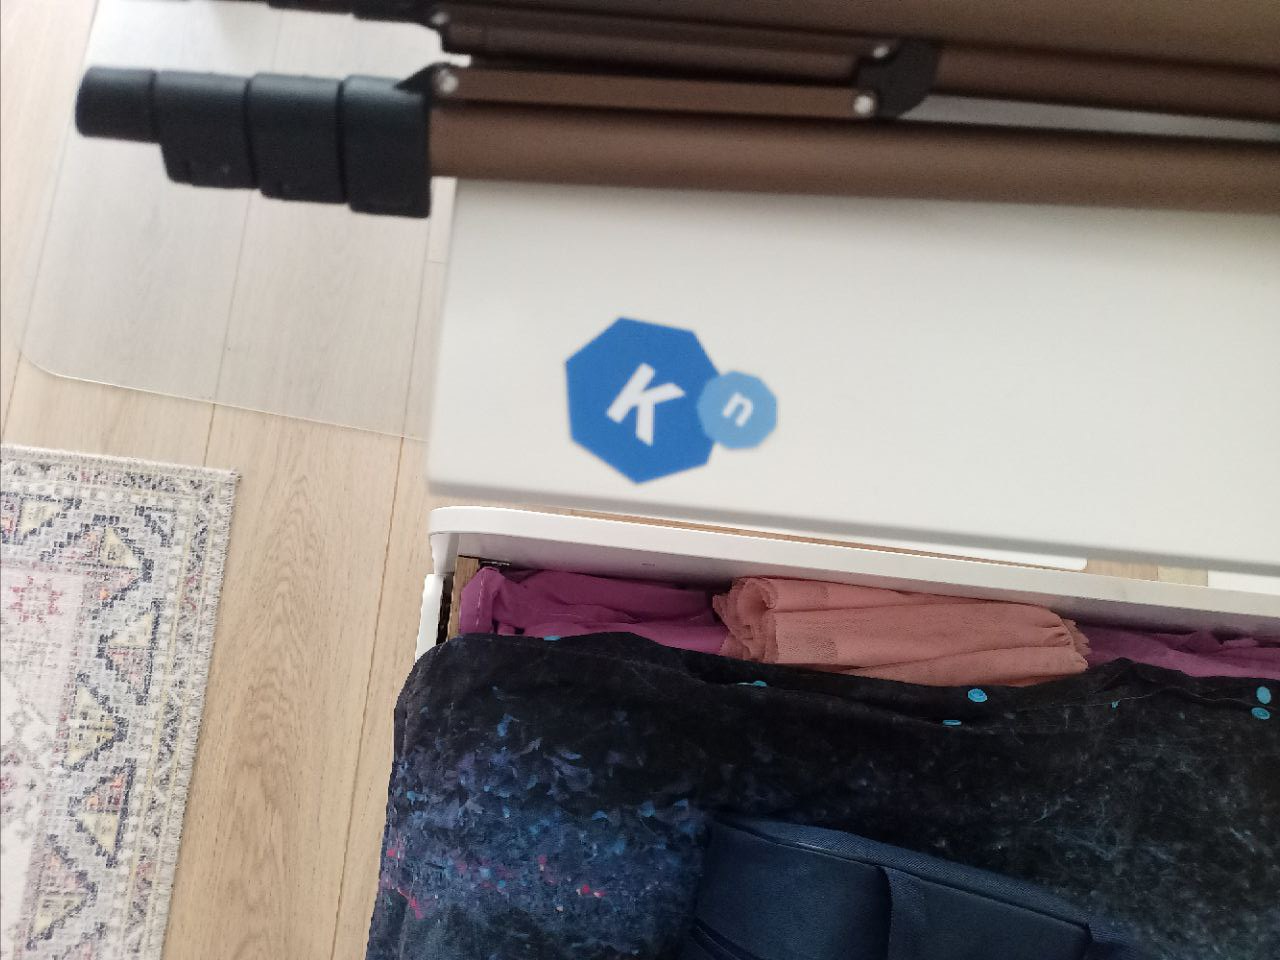knative: (561, 312, 779, 488)
